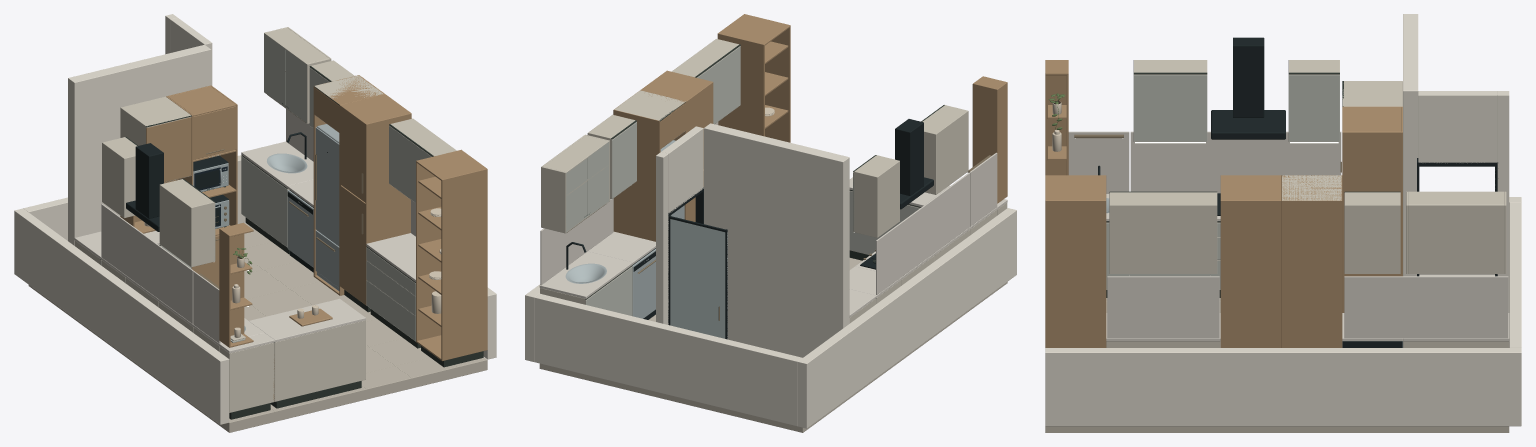
Rendered from configurator-clear-bd85cfa6474f.glb.
The picture shows the model from 3 angles, left to right: view 1: azimuth 30°, elevation 25°; view 2: azimuth 150°, elevation 25°; view 3: azimuth 270°, elevation 25°; orthographic projection. The views are drawn at different scales.
Parts seen in each view (by area): view 1: Surface 10, Surface 3, Surface 7, Surface 2, Surface 1, Surface 9, Surface 11, Surface 4, Surface 8, Surface 14, Surface 6; view 2: Surface 3, Surface 10, Surface 2, Surface 7, Surface 9, Surface 5, Surface 4, Surface 1, Surface 11, Surface 8; view 3: Surface 3, Surface 10, Surface 2, Surface 7, Surface 9, Surface 4, Surface 1, Surface 8.
Boxes of the visible parts, bbox=[...] form: Surface 10: bbox=[120, 75, 487, 400]; Surface 3: bbox=[14, 14, 496, 424]; Surface 7: bbox=[75, 27, 456, 412]; Surface 2: bbox=[74, 109, 415, 353]; Surface 1: bbox=[28, 223, 487, 432]; Surface 9: bbox=[100, 33, 431, 342]; Surface 11: bbox=[193, 124, 339, 331]; Surface 4: bbox=[126, 132, 327, 272]; Surface 8: bbox=[100, 66, 483, 419]; Surface 14: bbox=[144, 208, 441, 337]; Surface 6: bbox=[199, 95, 363, 288]; Surface 3: bbox=[525, 123, 1016, 428]; Surface 10: bbox=[613, 14, 1007, 241]; Surface 2: bbox=[539, 122, 1007, 317]; Surface 7: bbox=[540, 39, 1007, 323]; Surface 9: bbox=[566, 46, 919, 316]; Surface 5: bbox=[670, 219, 727, 338]; Surface 4: bbox=[566, 119, 933, 339]; Surface 1: bbox=[539, 258, 1007, 432]; Surface 11: bbox=[565, 140, 684, 318]; Surface 8: bbox=[585, 44, 944, 299]; Surface 3: bbox=[1045, 14, 1521, 426]; Surface 10: bbox=[1045, 60, 1402, 347]; Surface 2: bbox=[1068, 131, 1509, 341]; Surface 7: bbox=[1106, 60, 1509, 347]; Surface 9: bbox=[1106, 75, 1339, 289]; Surface 4: bbox=[1098, 37, 1497, 347]; Surface 1: bbox=[1045, 298, 1509, 432]; Surface 8: bbox=[1106, 72, 1400, 297].
Size of the model in its own units: 3.64 by 2.98 by 4.7.
